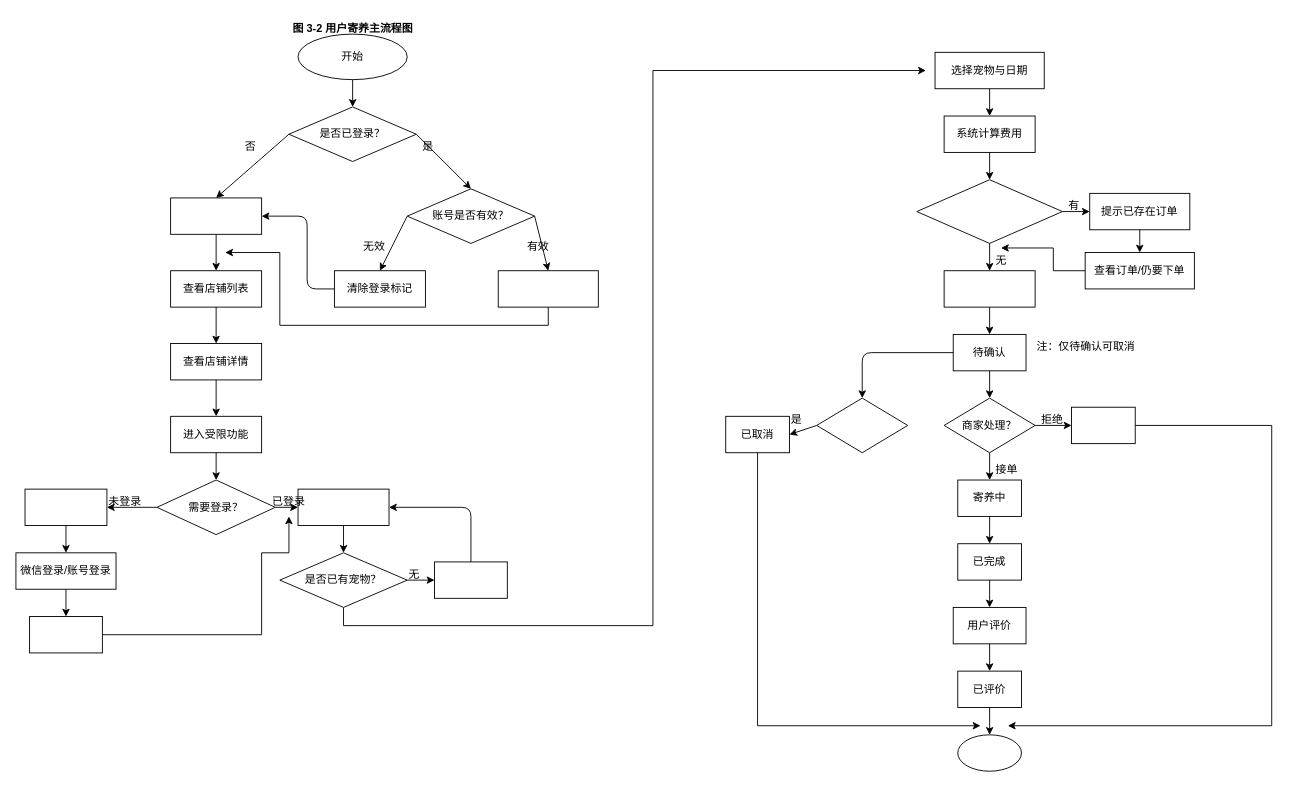
This 1295x787 diagram has some shape labels left out. The shapes that lost their labels are listed below. From the top down, each one's centre as x and y in pixels, then its label:
pixel 216 215: 进入游客模式
pixel 989 211: 是否有进行中订单？
pixel 547 288: 进入已登录状态
pixel 989 288: 创建订单成功
pixel 862 425: 用户取消？
pixel 1103 425: 已拒绝
pixel 65 507: 进入登录页
pixel 343 507: 进入下单页
pixel 470 579: 新增宠物
pixel 65 634: 登录成功
pixel 989 752: 结束
